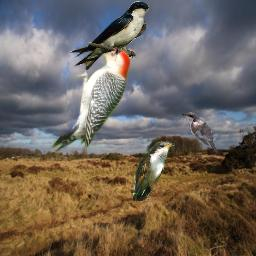Cuckoo: (132, 141, 175, 201), (181, 111, 218, 156)
Swallow: (69, 1, 149, 70)
Woodpecker: (47, 37, 130, 157)
